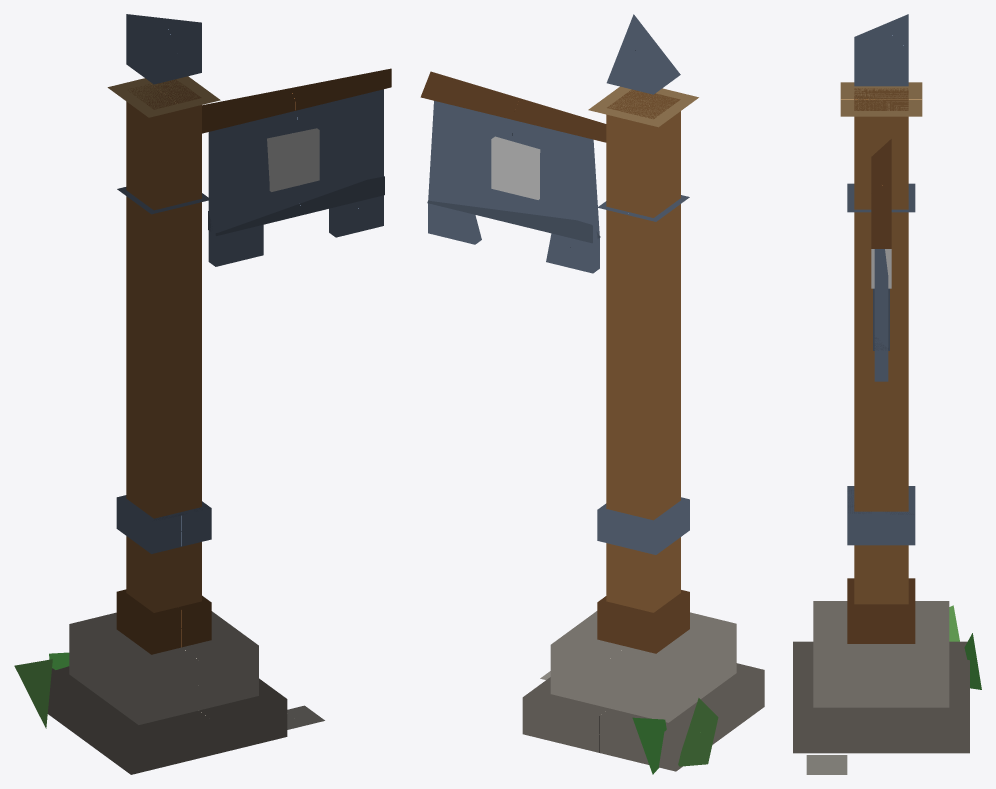
Rendered from territory-marker-raccoon_lod1.glb.
3 renders of one model, left to right at view 1: azimuth 30°, elevation 25°; view 2: azimuth 150°, elevation 25°; view 3: azimuth 270°, elevation 25°, orthographic. The views are drawn at different scales.
Visible parts, largest first — view 1: marker-post, banner; view 2: marker-post, banner; view 3: marker-post, banner.
Boxes of the visible parts, box(x1,y1,x2,y2) form: marker-post: box(14, 14, 324, 774); banner: box(202, 68, 391, 266); marker-post: box(522, 14, 764, 774); banner: box(420, 71, 606, 273); marker-post: box(793, 14, 981, 774); banner: box(871, 139, 891, 381).
Size of the model in its own units: 0.5581 by 1.12 by 0.2778.
